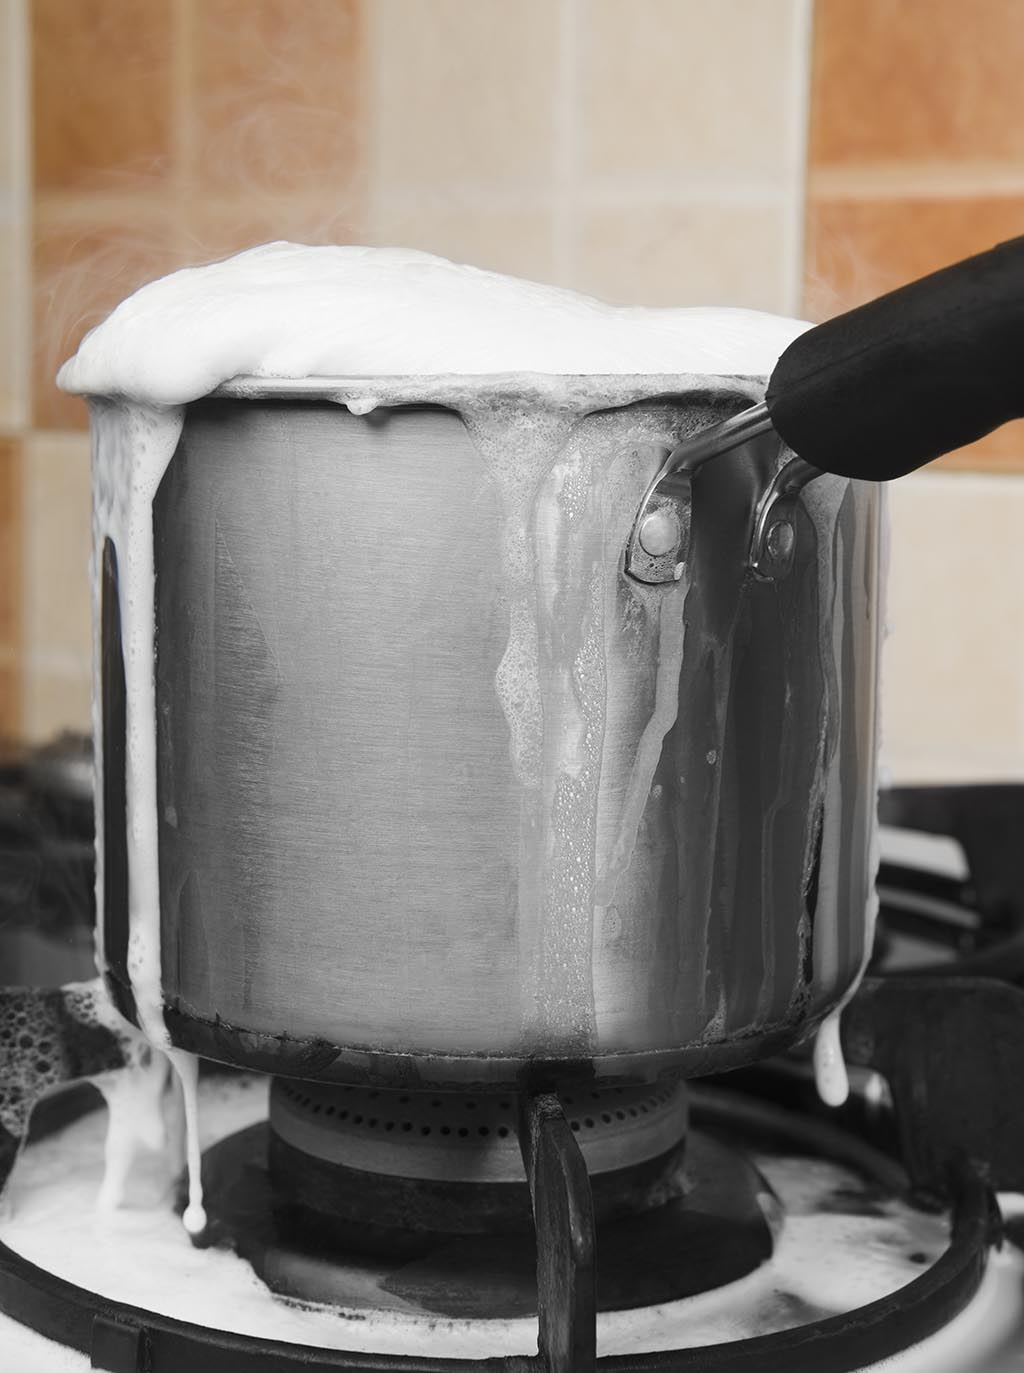Boiled: (56, 234, 908, 1095)
